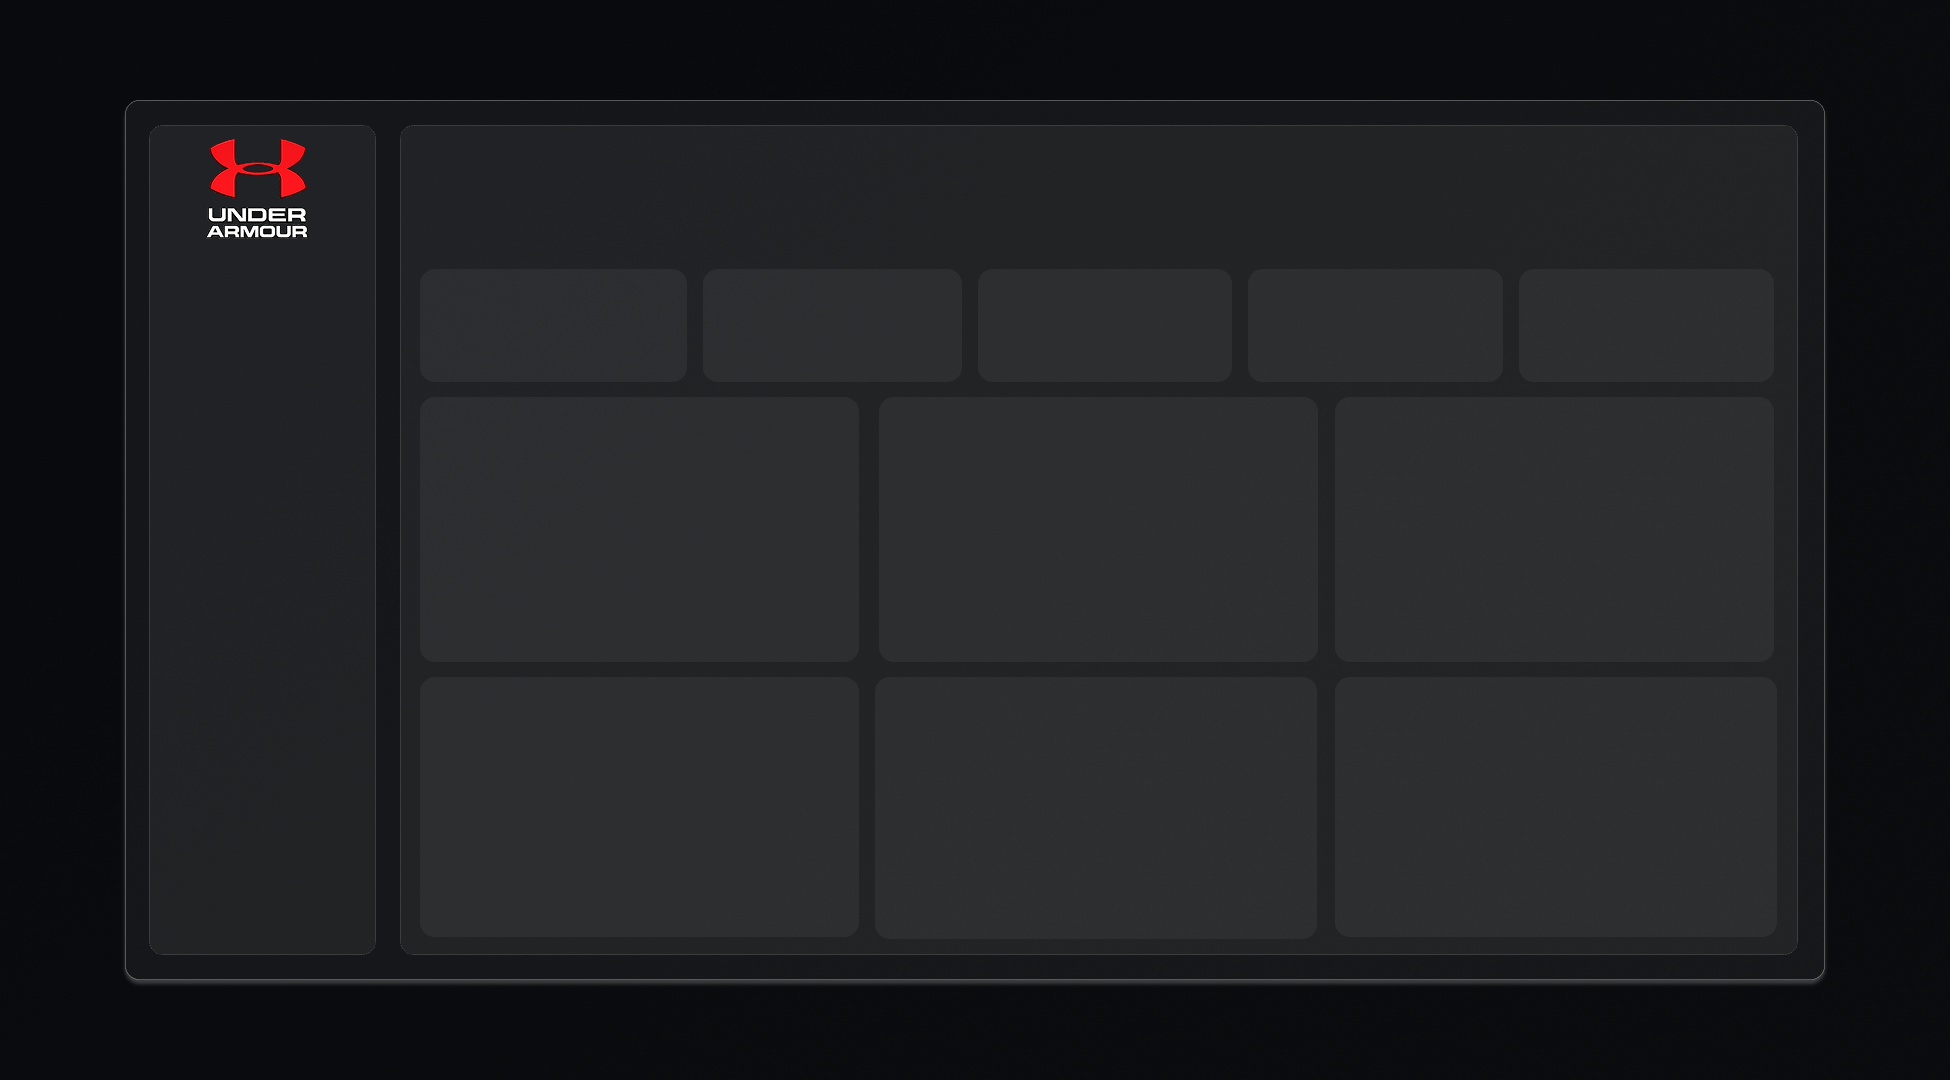

This screenshot's page, from the dashboard's own definition file:
{"tool":"powerbi","page":{"name":"Executive Overview","canvas":[1920,1080],"ordinal":1},"visuals":[{"type":"textbox","box":[444.2,129.2,837.5,65],"z":0},{"type":"cardVisual","fields":{"Data":["Sum(bi_executive_kpis.value)"]},"box":[574,215.3,150,110],"z":1000},{"type":"cardVisual","fields":{"Data":["Sum(bi_executive_kpis.value)"]},"box":[885.3,216,157.3,93.3],"z":2000},{"type":"cardVisual","fields":{"Data":["Sum(bi_executive_kpis.value)"]},"box":[1237.3,216,151.3,94.7],"z":3000},{"type":"cardVisual","fields":{"Data":["Sum(bi_executive_kpis.value)"]},"box":[1568.7,220,166.7,101.3],"z":4000},{"type":"cardVisual","fields":{"Data":["Sum(bi_executive_kpis.value)"]},"box":[636,379.3,168,100],"z":5000},{"type":"cardVisual","fields":{"Data":["Sum(bi_executive_kpis.value)"]},"box":[1056,369.3,239.3,119.3],"z":6000},{"type":"cardVisual","fields":{"Data":["Sum(bi_executive_kpis.value)"]},"box":[1557.3,375.3,165.3,104],"z":7000},{"type":"clusteredBarChart","title":"Executive Efficiency Metrics","fields":{"Category":["bi_executive_kpis.metric"],"Y":["Sum(bi_executive_kpis.value)"]},"box":[443.8,540,643.8,405],"z":8000},{"type":"funnel","title":"Funnel Stage Health","fields":{"Category":["bi_funnel_session_summary.stage_name"],"Y":["Sum(bi_funnel_session_summary.stage_count)"]},"box":[1116.2,541.2,635,403.8],"z":9000},{"type":"pageNavigator","box":[183.3,280,200,665],"z":10000},{"type":"image","box":[476,262.7,98,87.3],"z":11000},{"type":"image","box":[804,260,90.7,87.3],"z":12000},{"type":"image","box":[1146,260.7,91.3,86.7],"z":13000},{"type":"image","box":[1478,254.7,90.7,86.7],"z":14000},{"type":"image","box":[498.9,421.1,92.2,87.8],"z":15000},{"type":"image","box":[930,422,90.7,88],"z":16000},{"type":"image","box":[1393.3,422,90.7,88],"z":17000}]}

Visuals, with their boxes in screenshot pixels (x1, y1, x2, y2), scaled from the page's 1920x1080 canvas onto the 1950x1080 screenshot:
textbox: bbox=[451, 129, 1302, 194]
cardVisual - Sum(bi_executive_kpis.value): bbox=[583, 215, 735, 325]
cardVisual - Sum(bi_executive_kpis.value): bbox=[899, 216, 1059, 309]
cardVisual - Sum(bi_executive_kpis.value): bbox=[1257, 216, 1410, 311]
cardVisual - Sum(bi_executive_kpis.value): bbox=[1593, 220, 1763, 321]
cardVisual - Sum(bi_executive_kpis.value): bbox=[646, 379, 817, 479]
cardVisual - Sum(bi_executive_kpis.value): bbox=[1072, 369, 1316, 489]
cardVisual - Sum(bi_executive_kpis.value): bbox=[1582, 375, 1750, 479]
"Executive Efficiency Metrics" clusteredBarChart: bbox=[451, 540, 1105, 945]
"Funnel Stage Health" funnel: bbox=[1134, 541, 1779, 945]
pageNavigator: bbox=[186, 280, 389, 945]
image: bbox=[483, 263, 583, 350]
image: bbox=[817, 260, 909, 347]
image: bbox=[1164, 261, 1257, 347]
image: bbox=[1501, 255, 1593, 341]
image: bbox=[507, 421, 600, 509]
image: bbox=[945, 422, 1037, 510]
image: bbox=[1415, 422, 1507, 510]
